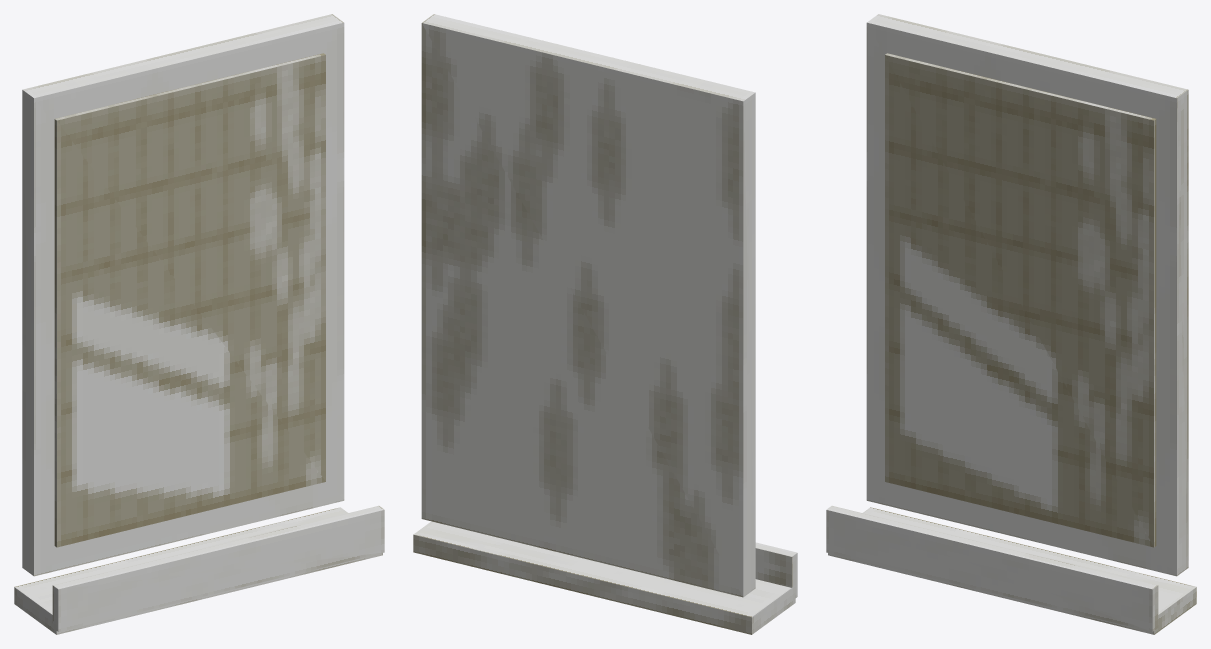
File: bath_mirror.glb
3 views of the same model, side by side, from view 1: azimuth 30°, elevation 25°; view 2: azimuth 150°, elevation 25°; view 3: azimuth 330°, elevation 25° (orthographic). The views are drawn at different scales.
Visible parts, largest first — view 1: mesh; view 2: mesh; view 3: mesh.
Part boxes in pixels (x1,y1,x2,y2): mesh: [14, 14, 384, 634]; mesh: [413, 14, 797, 634]; mesh: [826, 14, 1196, 634].
Size of the model in its own units: 0.4 by 0.6 by 0.094.
1 material, 1 textured.
